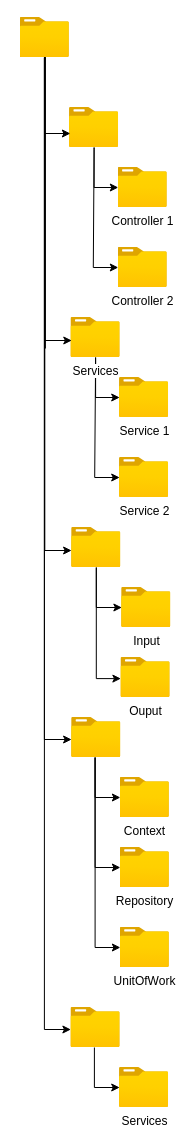
This 193x1145 diagram has some shape labels left out. Each missing label, with the centre of its shape:
"Appication" goes at pixel 44 37.
"Controlles" goes at pixel 93 127.
"Models" goes at pixel 95 547.
"Persistence" goes at pixel 95 737.
"Test" goes at pixel 95 1027.
